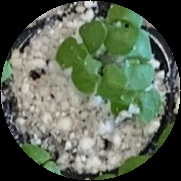Basil: (101, 0, 143, 59), (52, 22, 105, 66), (73, 61, 122, 102), (104, 58, 164, 91), (113, 84, 157, 125)
